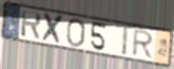5: (90, 21, 107, 52)
I: (121, 26, 129, 58)
O: (65, 18, 87, 49)
R: (131, 29, 156, 60), (20, 10, 43, 42)
X: (41, 12, 66, 47)
